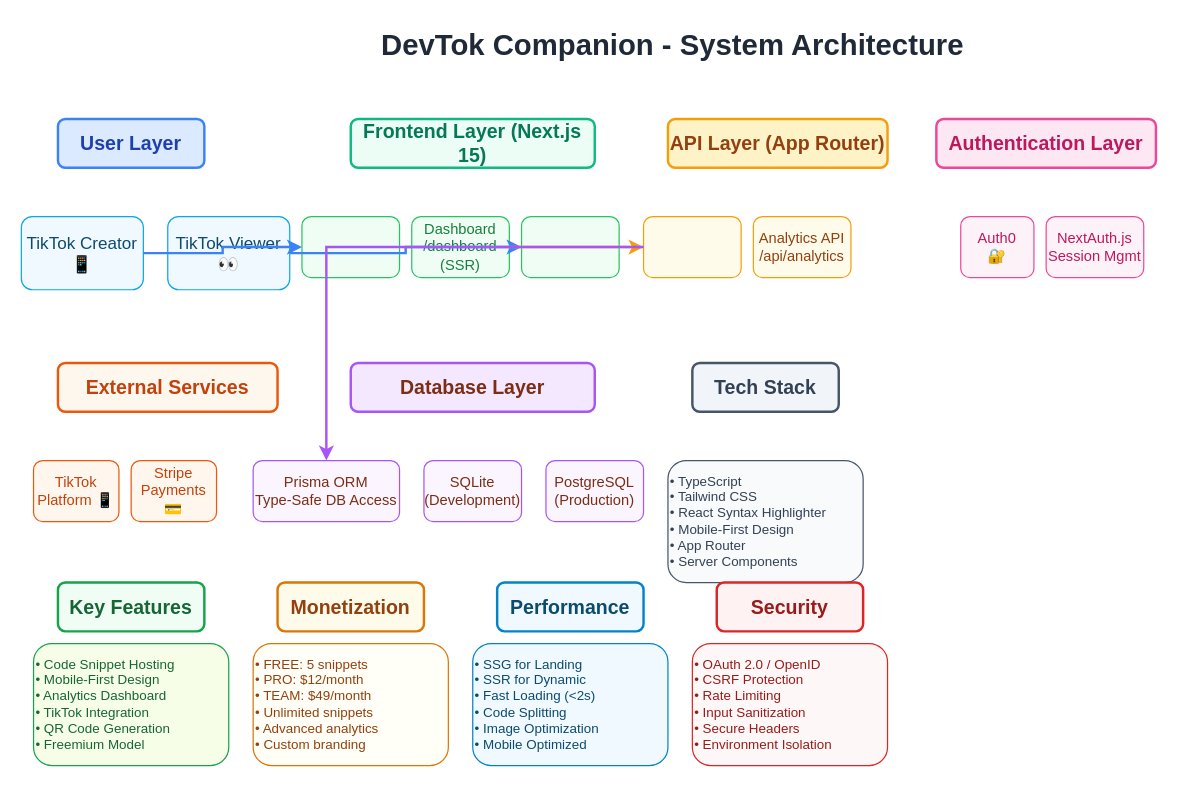
Image size: 1179x787. Some labels were removed from this diagram. Here are the shapes that lost their labels. From the top down, the centre of each, then its label:
the point at 350,246: Landing Page / (SSG)
the point at 569,246: Snippet View /s/[slug] (SSR)
the point at 691,246: Snippets API /api/snippets
